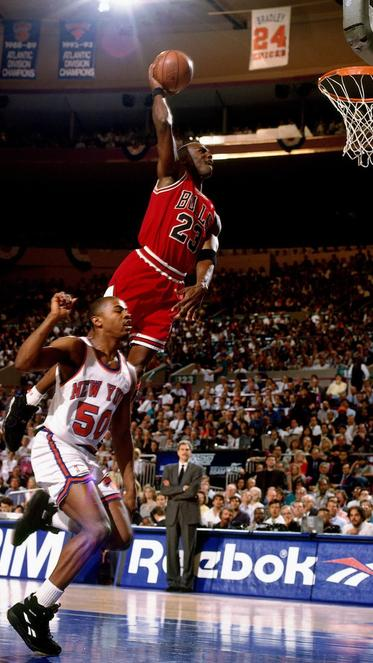ball: (152, 48, 194, 94)
